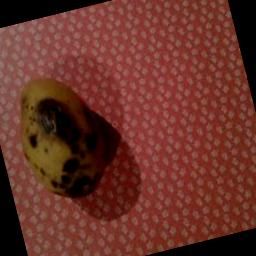Mango Rotten: (3, 56, 124, 220)
